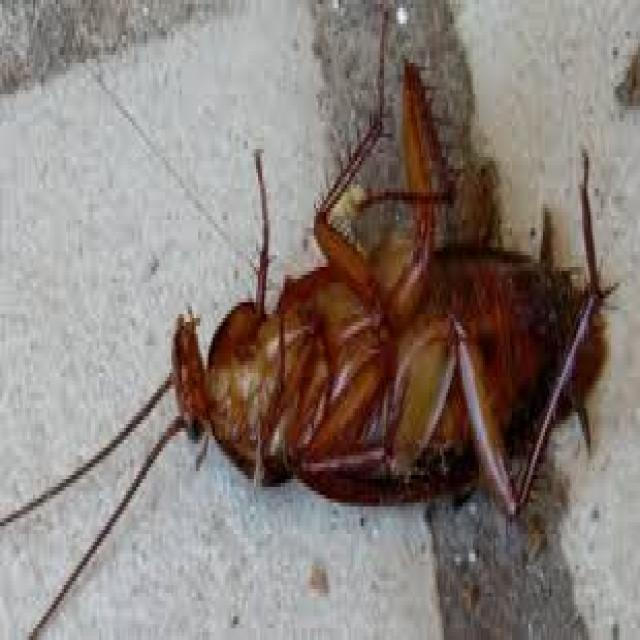Cockroach: (142, 16, 618, 522)
